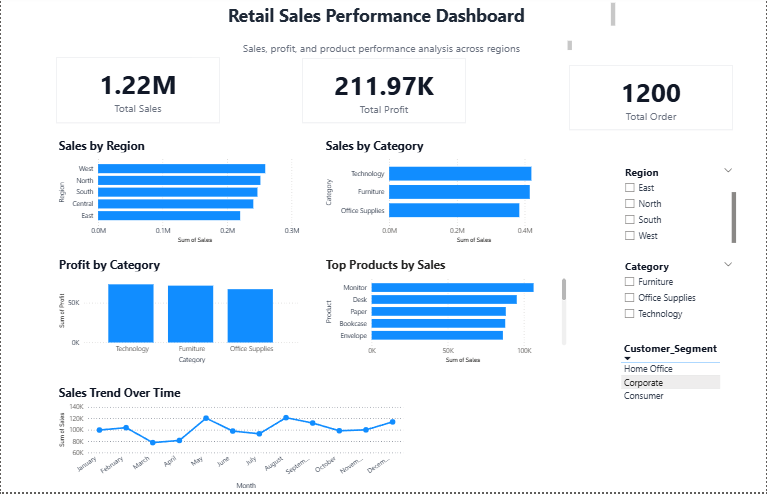

The page's visual inventory and layout, read from the dashboard file:
{"tool":"powerbi","page":{"name":"Page 1","canvas":[1400,900],"ordinal":0},"visuals":[{"type":"card","fields":{"Values":["Sum(retail_sales_dataset.Sales)"]},"box":[100.6,104.3,300,120.7],"z":0},{"type":"card","fields":{"Values":["Sum(retail_sales_dataset.Profit)"]},"box":[550.6,106.1,300,118.9],"z":1000},{"type":"card","fields":{"Values":["CountNonNull(retail_sales_dataset.Order_ID)"]},"box":[1039,118.9,300,118.9],"z":2000},{"type":"clusteredBarChart","title":"Sales by Region","fields":{"Category":["retail_sales_dataset.Region"],"Y":["Sum(retail_sales_dataset.Sales)"]},"box":[100.6,250.6,450,199.4],"z":3000},{"type":"clusteredBarChart","title":"Sales by Category","fields":{"Category":["retail_sales_dataset.Category"],"Y":["Sum(retail_sales_dataset.Sales)"]},"box":[589,250.6,450,199.4],"z":4000},{"type":"columnChart","title":"Profit by Category","fields":{"Category":["retail_sales_dataset.Category"],"Y":["Sum(retail_sales_dataset.Profit)"]},"box":[100.6,468.3,450,201.2],"z":5000},{"type":"lineChart","title":"Sales Trend Over Time\n","fields":{"Y":["Sum(retail_sales_dataset.Sales)"],"Category":["retail_sales_dataset.Date.Variation.Date Hierarchy.Month"]},"box":[100.6,702.4,640.2,197.6],"z":6000},{"type":"barChart","title":"Top Products by Sales\n","fields":{"Category":["retail_sales_dataset.Product"],"Y":["Sum(retail_sales_dataset.Sales)"]},"box":[589,468.3,450,201.2],"z":7000},{"type":"slicer","fields":{"Values":["retail_sales_dataset.Region"]},"box":[1128.7,296.3,221.3,153.7],"z":8000},{"type":"textbox","box":[250,0,878,60],"z":9000},{"type":"textbox","box":[350,70,700,35],"z":10000},{"type":"slicer","fields":{"Values":["retail_sales_dataset.Category"]},"box":[1128.7,468.3,221.3,129.9],"z":11000},{"type":"tableEx","fields":{"Values":["retail_sales_dataset.Customer_Segment"]},"box":[1128.7,618.3,221.3,144.5],"z":12000}]}

Visuals, with their boxes in screenshot pixels (x1, y1, x2, y2), scaled from the page's 1400x900 canvas onto the 767x494 screenshot:
card - Sum(retail_sales_dataset.Sales): Rect(55, 57, 219, 124)
card - Sum(retail_sales_dataset.Profit): Rect(302, 58, 466, 124)
card - CountNonNull(retail_sales_dataset.Order_ID): Rect(569, 65, 734, 131)
"Sales by Region" clusteredBarChart: Rect(55, 138, 302, 247)
"Sales by Category" clusteredBarChart: Rect(323, 138, 569, 247)
"Profit by Category" columnChart: Rect(55, 257, 302, 367)
"Sales Trend Over Time
" lineChart: Rect(55, 386, 406, 493)
"Top Products by Sales
" barChart: Rect(323, 257, 569, 367)
slicer - retail_sales_dataset.Region: Rect(618, 163, 740, 247)
textbox: Rect(137, 0, 618, 33)
textbox: Rect(192, 38, 575, 58)
slicer - retail_sales_dataset.Category: Rect(618, 257, 740, 328)
tableEx - retail_sales_dataset.Customer_Segment: Rect(618, 339, 740, 419)
